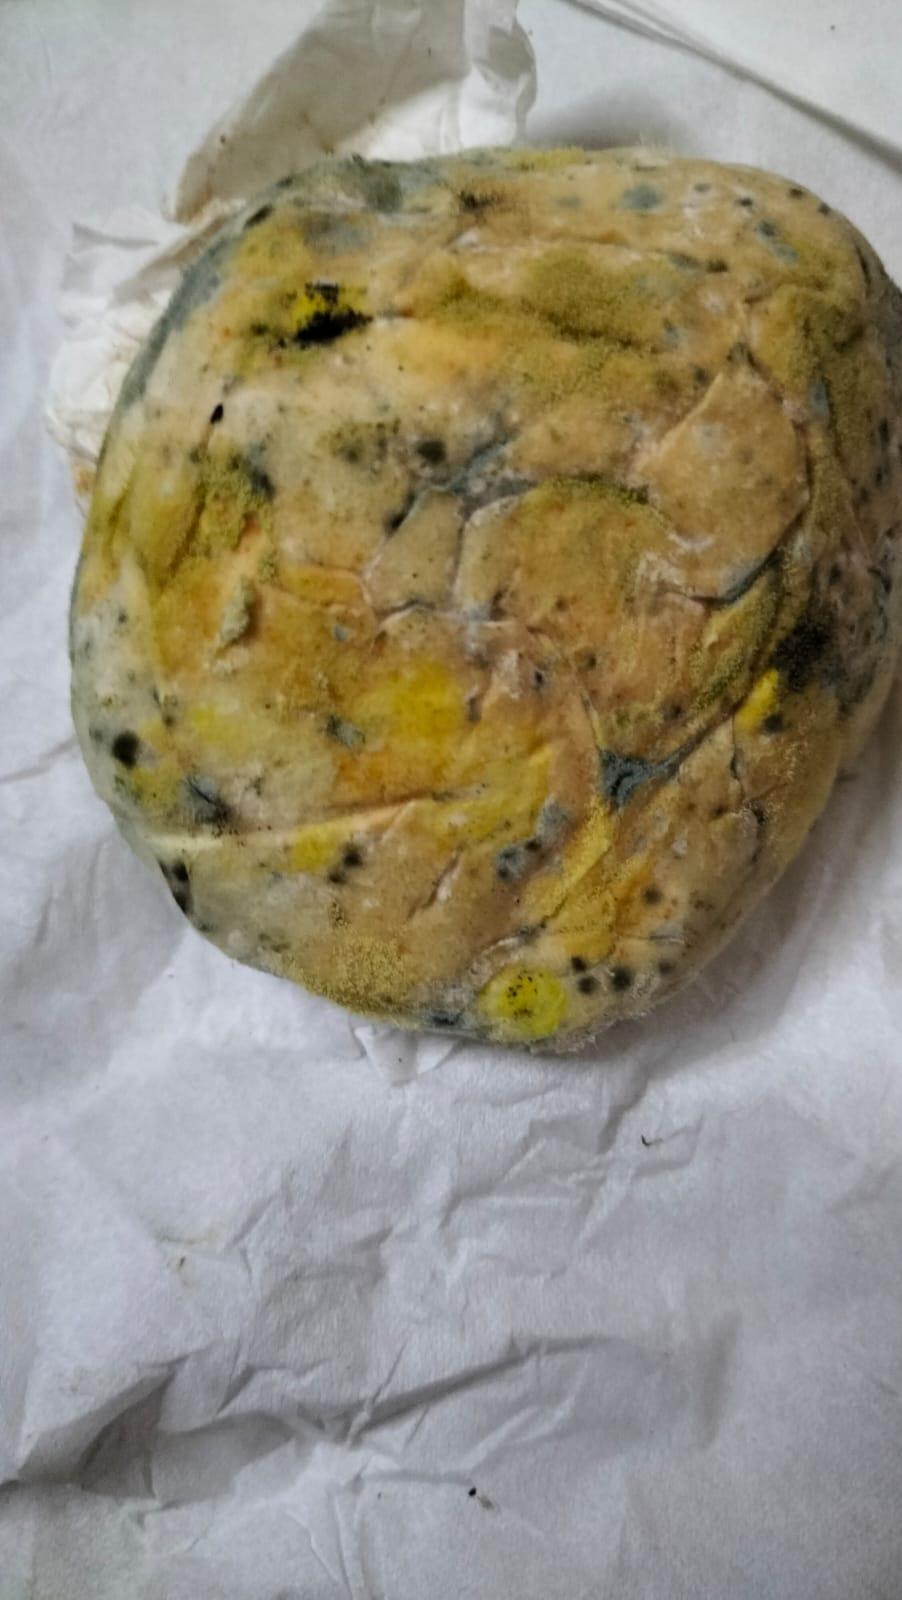mold_bread: (330, 405, 449, 538), (750, 595, 848, 743), (250, 274, 378, 369), (299, 149, 405, 251), (188, 441, 280, 533), (485, 803, 575, 885), (591, 741, 677, 816), (154, 851, 207, 922), (182, 784, 247, 841), (99, 716, 151, 778), (325, 835, 370, 899), (450, 176, 503, 223), (619, 177, 668, 223)
